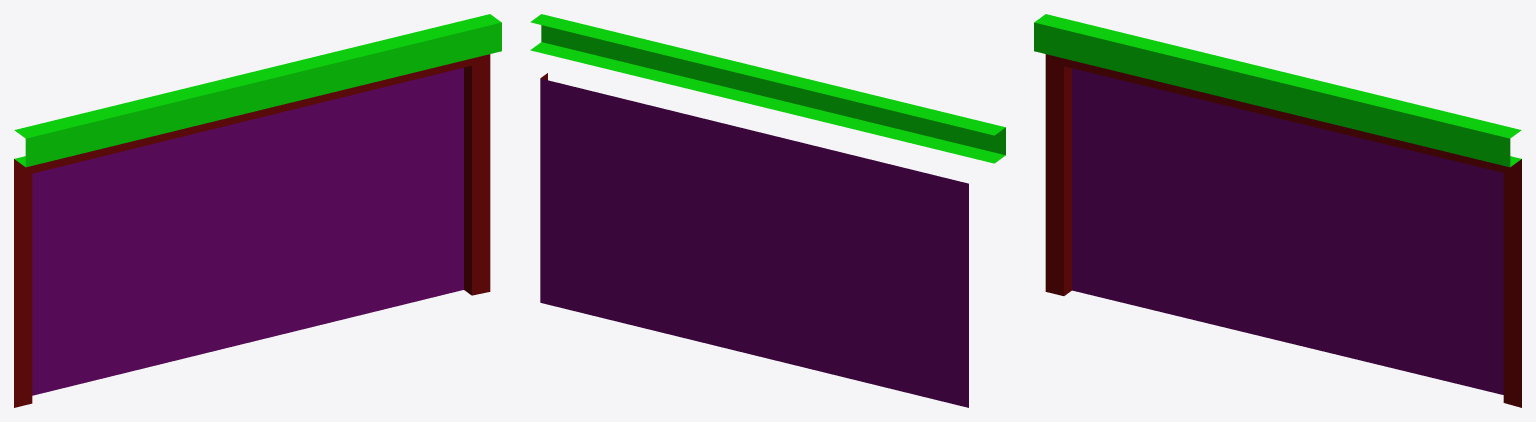
File: Wall_Garage.fbx
3 views of the same model, side by side, from view 1: azimuth 30°, elevation 25°; view 2: azimuth 150°, elevation 25°; view 3: azimuth 330°, elevation 25° (orthographic). The views are drawn at different scales.
Parts seen in each view (by area): view 1: Wall_Garage; view 2: Wall_Garage; view 3: Wall_Garage.
Part boxes in pixels (x1=…): Wall_Garage: x1=14, y1=14, x2=501, y2=407; Wall_Garage: x1=530, y1=14, x2=1005, y2=407; Wall_Garage: x1=1034, y1=14, x2=1521, y2=407.
Bounding box in the file's own units: 520 × 37 × 290.
